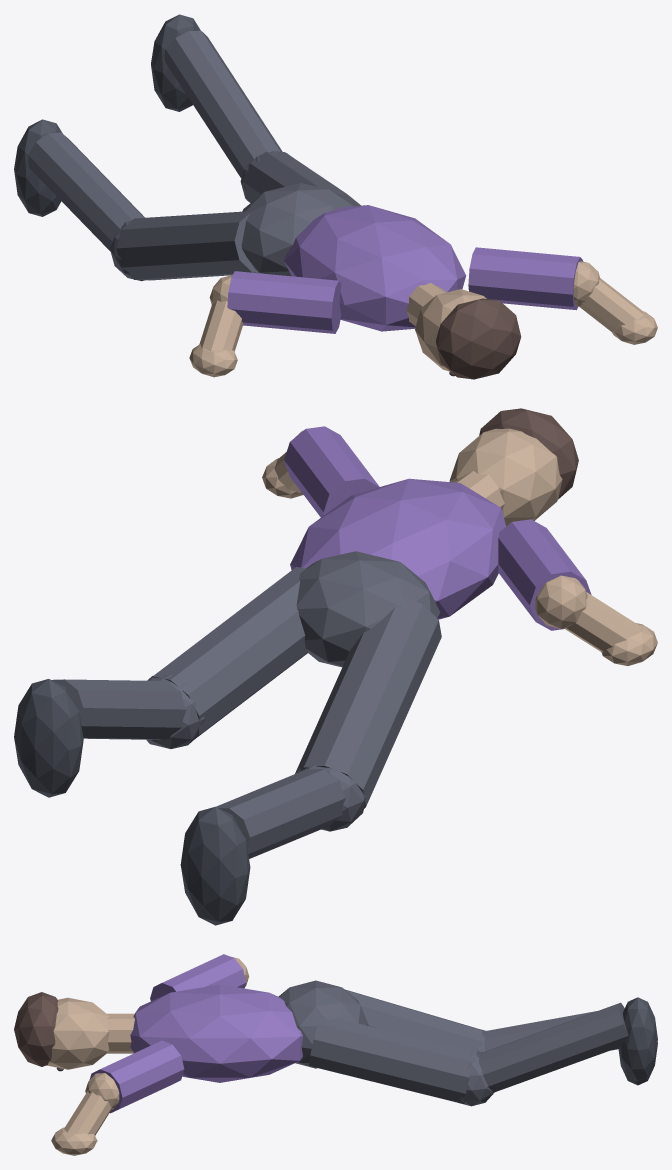
3 views of the same model, one above another, from view 1: azimuth 30°, elevation 25°; view 2: azimuth 150°, elevation 25°; view 3: azimuth 270°, elevation 25° (orthographic). The views are drawn at different scales.
Visible parts, largest first — view 1: world; view 2: world; view 3: world.
Boxes of the visible parts, bbox=[...] form: world: bbox=[14, 14, 657, 379]; world: bbox=[14, 408, 657, 925]; world: bbox=[14, 954, 657, 1155].
Size of the model in its own units: 1.25 by 0.52 by 2.08.
